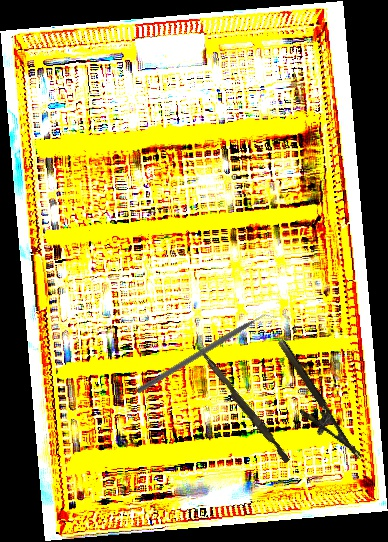Chopper: (135, 307, 279, 401)
Needle Holder: (261, 337, 363, 473)
Pusher: (192, 346, 294, 464)
